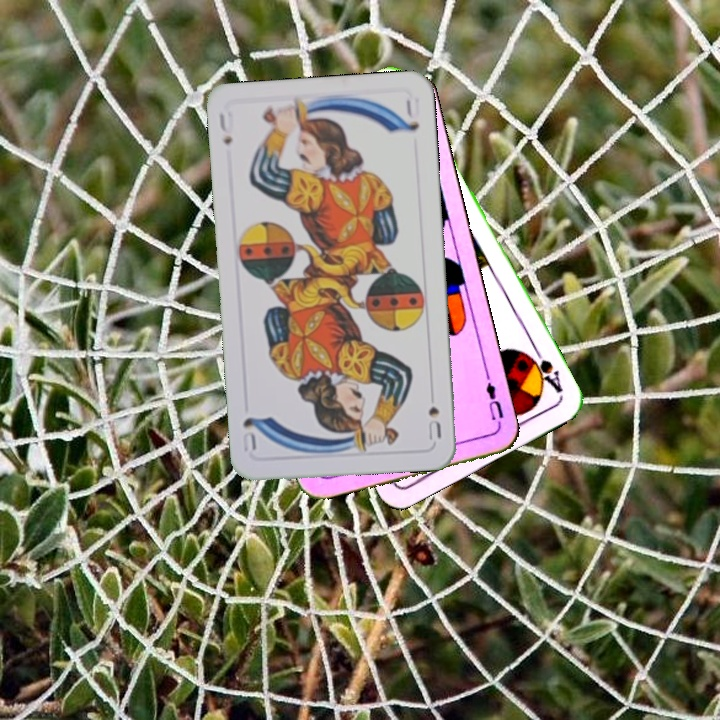EU: (482, 378, 506, 430)
SA: (522, 343, 566, 396)
SU: (215, 108, 237, 148), (424, 403, 444, 443)
